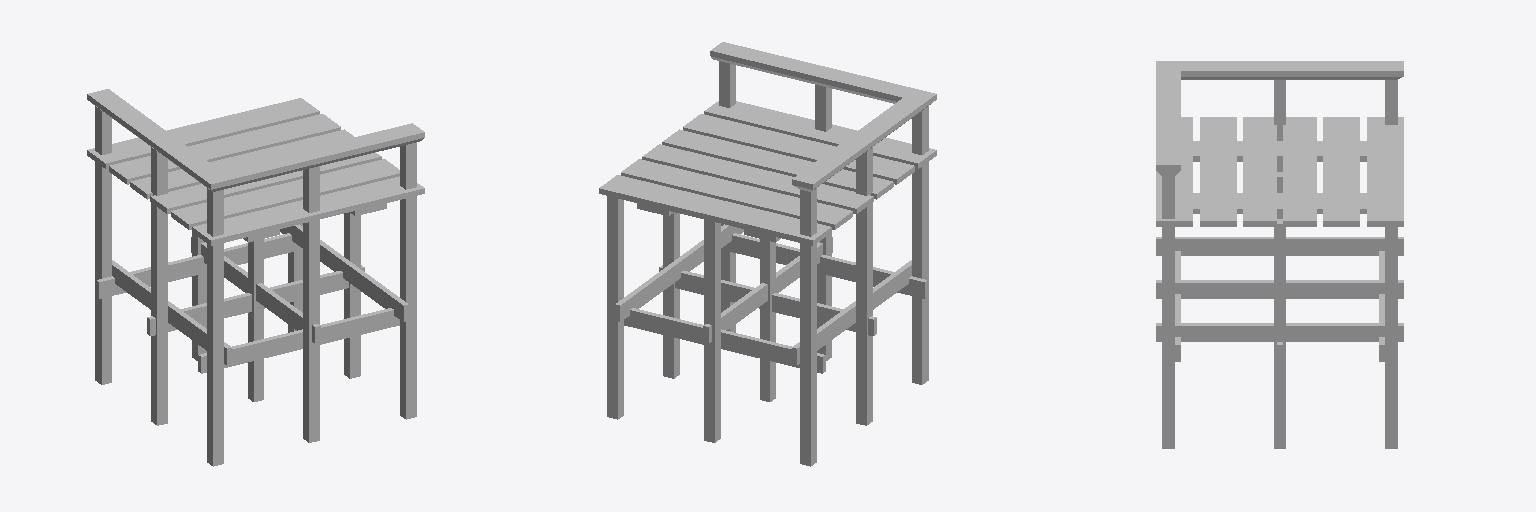
File: scaffold_high_cornerRight.obj
3 renders of one model, left to right at view 1: azimuth 30°, elevation 25°; view 2: azimuth 150°, elevation 25°; view 3: azimuth 270°, elevation 25°, orthographic.
Visible parts, largest first — view 1: scaffold_high_cornerRight_Cube.2481; view 2: scaffold_high_cornerRight_Cube.2481; view 3: scaffold_high_cornerRight_Cube.2481.
Part boxes in pixels (left/top/right/bottom): scaffold_high_cornerRight_Cube.2481: left=87, top=89, right=424, bottom=466; scaffold_high_cornerRight_Cube.2481: left=599, top=42, right=936, bottom=466; scaffold_high_cornerRight_Cube.2481: left=1156, top=61, right=1403, bottom=448.
Size of the model in its own units: 4 by 5.1 by 4.